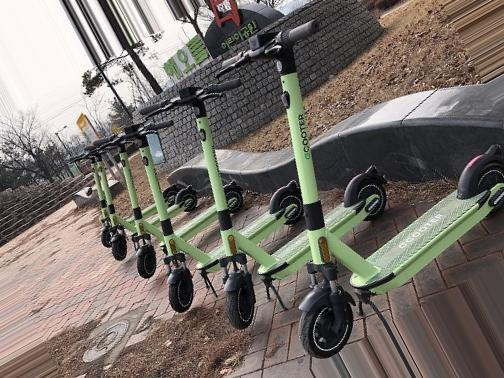scooter: (215, 20, 504, 359), (139, 78, 388, 330), (93, 118, 305, 313)
